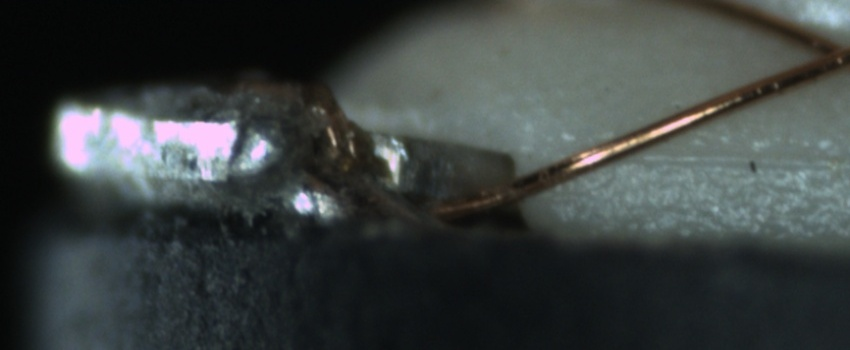CL: (791, 21, 850, 78)
DL: (607, 132, 850, 196)
TE: (299, 79, 362, 170)
